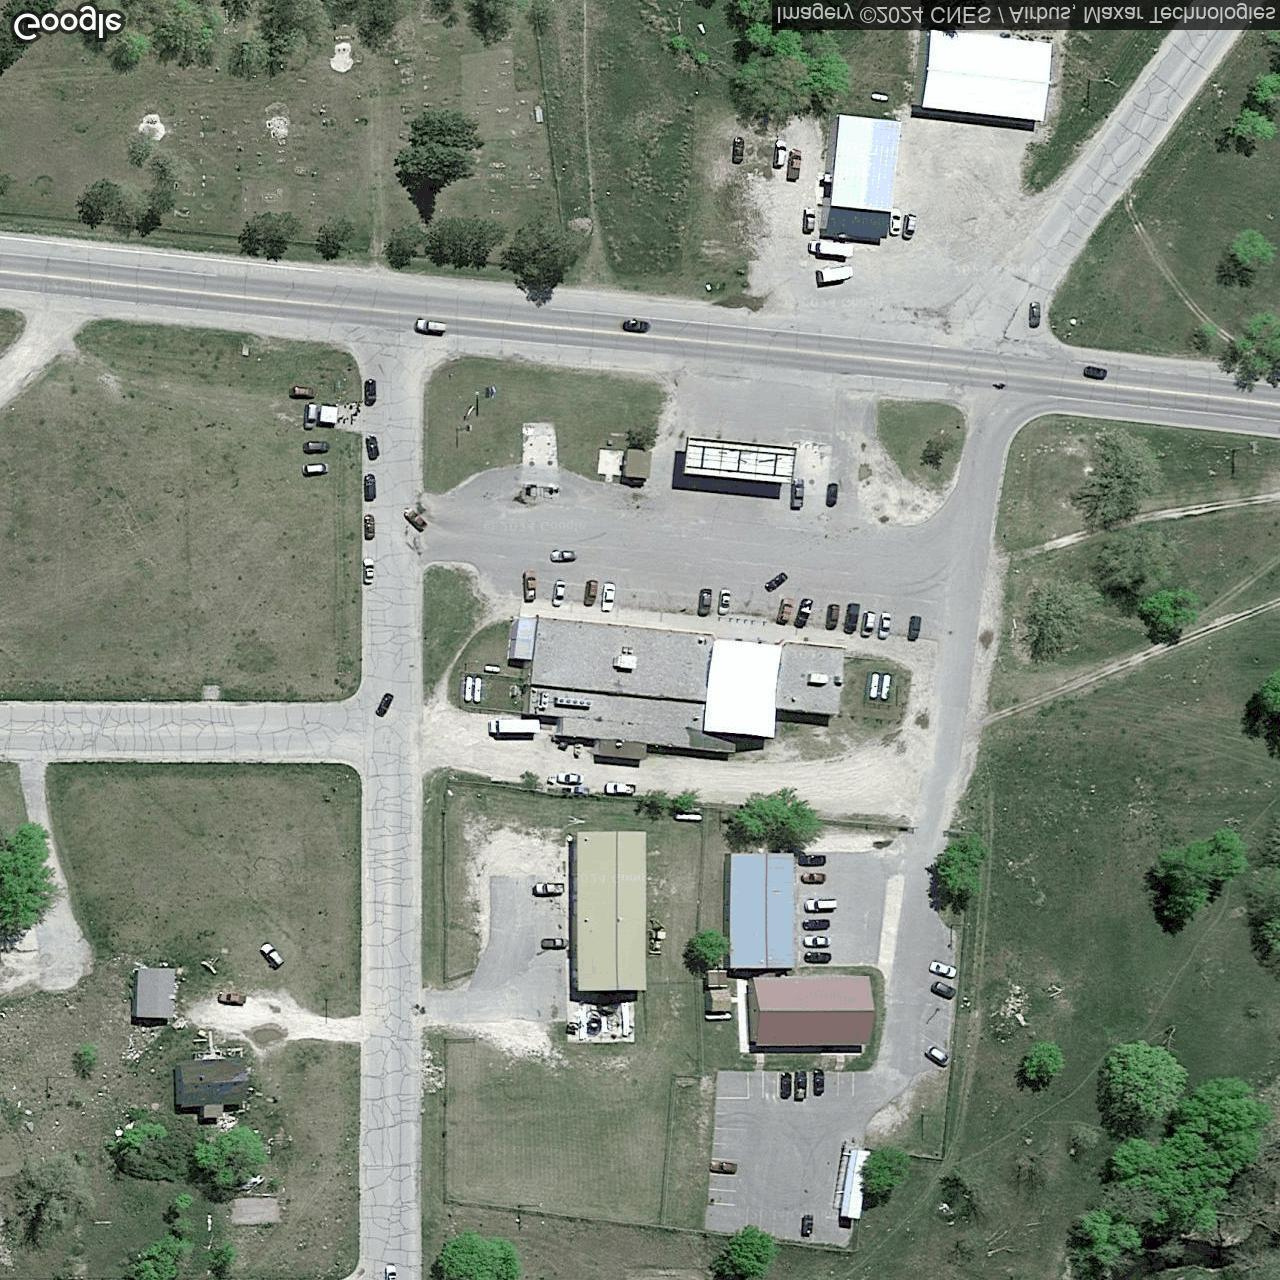Garage: (572, 829, 649, 992), (727, 851, 795, 968), (132, 966, 177, 1019)
House: (745, 974, 877, 1046), (172, 1055, 251, 1109)
Other: (506, 615, 846, 761), (913, 29, 1054, 123), (818, 114, 903, 239)
Propane: (869, 670, 881, 701), (879, 673, 892, 702), (463, 674, 475, 704), (471, 675, 483, 706), (674, 811, 703, 823), (870, 90, 891, 104), (484, 663, 501, 674)
